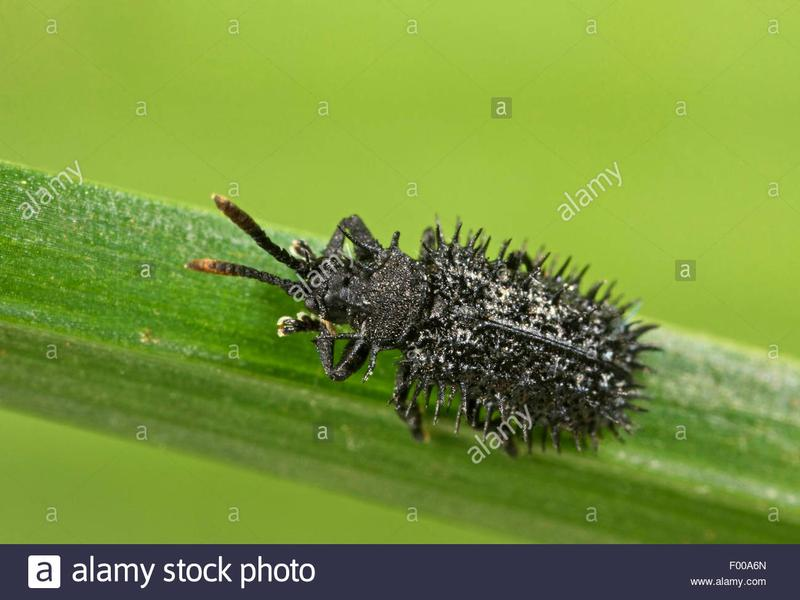Spiny_beetle: (194, 197, 665, 470)
